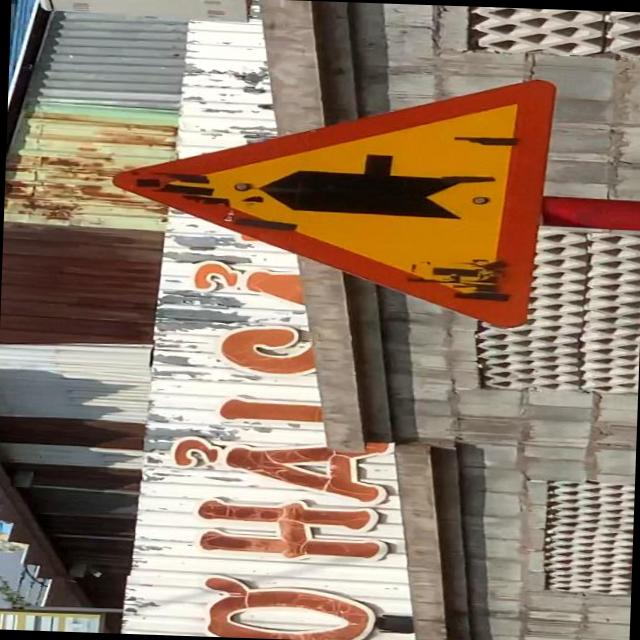W-207b: (107, 63, 557, 330)
